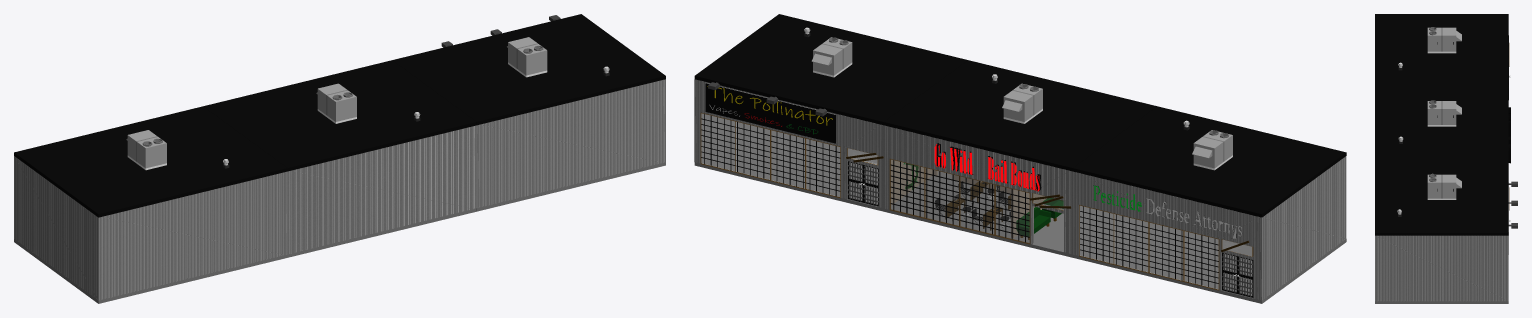
File: Strip Mall 3.glb
3 renders of one model, left to right at view 1: azimuth 30°, elevation 25°; view 2: azimuth 150°, elevation 25°; view 3: azimuth 270°, elevation 25°, orthographic. The views are drawn at different scales.
Parts seen in each view (by area): view 1: Roof, Exterior Walls.004, Exterior Walls, Exterior Walls.002, RTUs, Floor.005, Floor.002, Floor; view 2: Roof, Exterior Walls.004, Bars & Boards, Exterior Walls.002, Window.011, Window.003, Window.007, Floor.002, RTUs, Sign, Exterior Walls, Locked Doors.001 (+7 smaller); view 3: Roof, Exterior Walls, RTUs, Floor, Text, Lights Ext.002.
Boxes of the visible parts, x1,y1,x2,y2 form: Roof: [14, 14, 665, 217]; Exterior Walls.004: [14, 156, 287, 300]; Exterior Walls: [476, 79, 665, 207]; Exterior Walls.002: [287, 125, 476, 254]; RTUs: [126, 37, 547, 170]; Floor.005: [14, 239, 287, 303]; Floor.002: [287, 208, 476, 257]; Floor: [476, 162, 665, 211]; Roof: [694, 14, 1346, 217]; Exterior Walls.004: [1072, 156, 1346, 300]; Bars & Boards: [701, 114, 1249, 288]; Exterior Walls.002: [883, 125, 1072, 254]; Window.011: [1079, 205, 1219, 290]; Window.003: [700, 112, 840, 198]; Window.007: [889, 158, 1030, 244]; Floor.002: [883, 171, 1072, 257]; RTUs: [811, 37, 1232, 170]; Sign: [705, 83, 835, 143]; Exterior Walls: [694, 79, 883, 208]; Locked Doors.001: [847, 161, 1253, 297]; Roof: [1375, 14, 1508, 235]; Exterior Walls: [1375, 235, 1508, 301]; RTUs: [1427, 27, 1461, 199]; Floor: [1375, 301, 1508, 303]; Text: [1508, 107, 1510, 163]; Lights Ext.002: [1508, 181, 1517, 228].
Size of what is drawn, in the model's own units: 32.85 by 6.26 by 9.06.
Materials: 48 (2 with a texture image).
